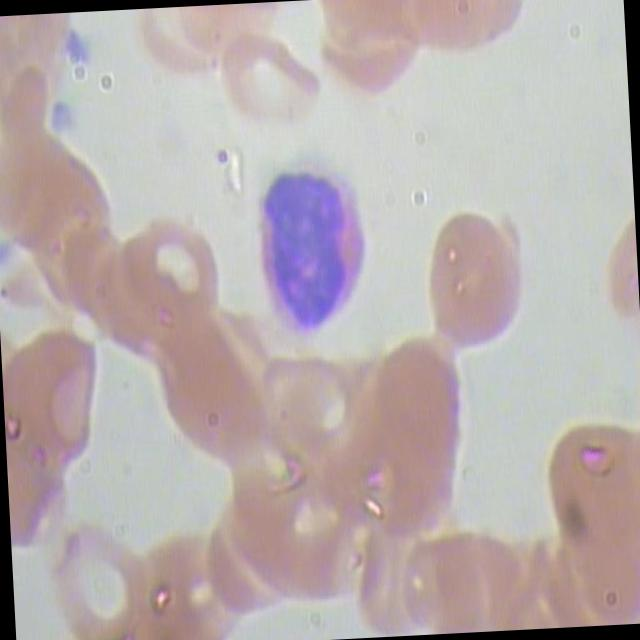Platelets: (60, 23, 89, 78), (48, 100, 77, 139)
RBC: (406, 208, 538, 368), (0, 320, 114, 472), (245, 345, 364, 481), (367, 338, 485, 474), (115, 201, 232, 337), (530, 419, 640, 555), (43, 517, 161, 640), (211, 31, 328, 150), (0, 129, 87, 258), (430, 527, 530, 634)
WBC: (244, 145, 381, 345)
